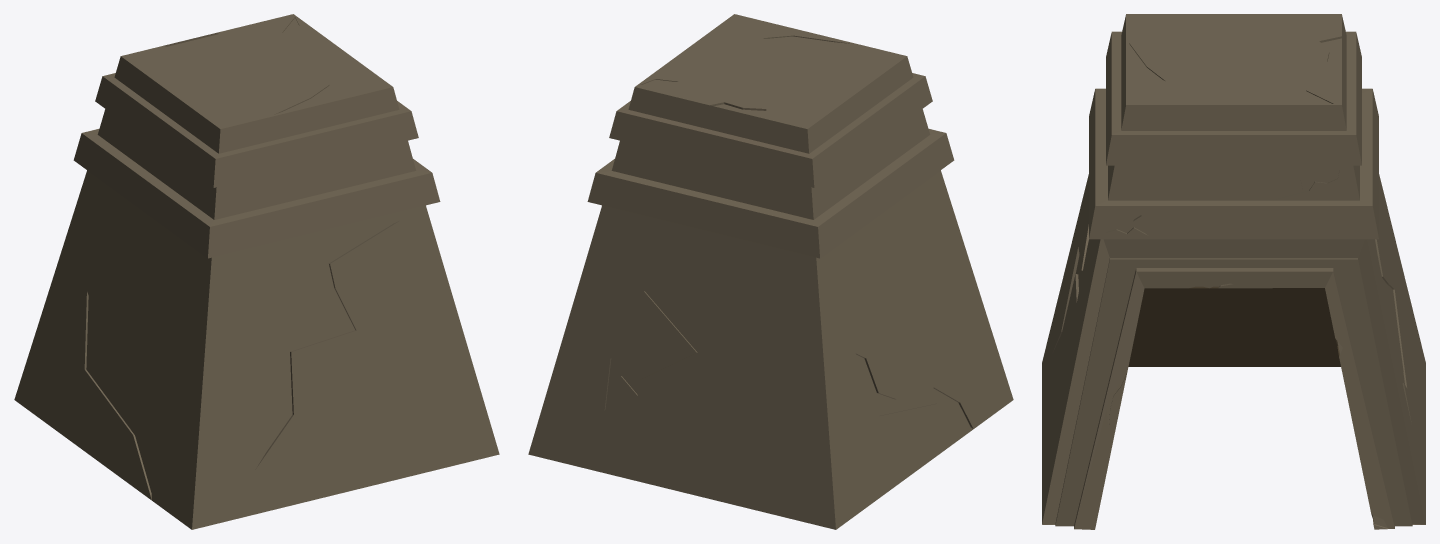
Rendered from Temple02.fbx.
3 renders of one model, left to right at view 1: azimuth 30°, elevation 25°; view 2: azimuth 150°, elevation 25°; view 3: azimuth 270°, elevation 25°, orthographic. The views are drawn at different scales.
Parts seen in each view (by area): view 1: temple01; view 2: temple01; view 3: temple01.
Boxes of the visible parts, x1,y1,x2,y2 form: temple01: (14, 14, 499, 529); temple01: (528, 14, 1013, 529); temple01: (1042, 14, 1425, 529).
Bounding box in the file's own units: 3.93 × 4.22 × 3.82.
